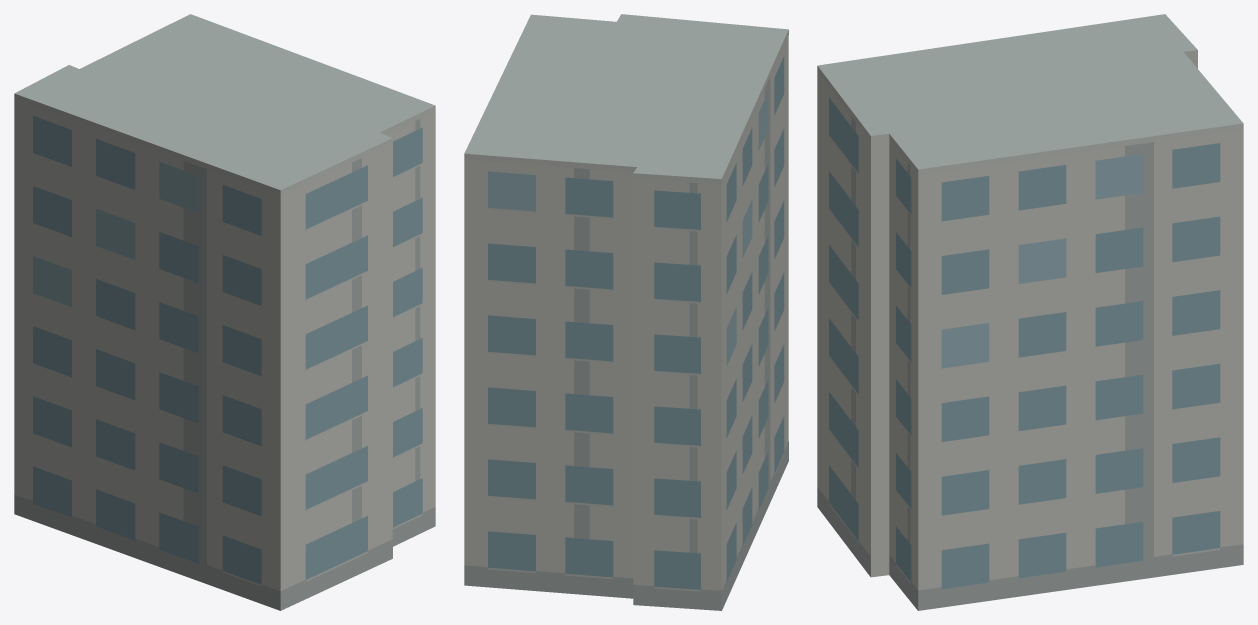
The model's file is survey-upis-32907158.glb.
3 views of the same model, side by side, from view 1: azimuth 30°, elevation 25°; view 2: azimuth 150°, elevation 25°; view 3: azimuth 270°, elevation 25° (orthographic). The views are drawn at different scales.
Visible parts, largest first — view 1: survey-upis-32907158.tmp; view 2: survey-upis-32907158.tmp; view 3: survey-upis-32907158.tmp.
Boxes of the visible parts, x1,y1,x2,y2 form: survey-upis-32907158.tmp: (14,14,435,610); survey-upis-32907158.tmp: (464,14,788,610); survey-upis-32907158.tmp: (817,14,1243,610).
Size of the model in its own units: 13.84 by 18.3 by 16.02.
